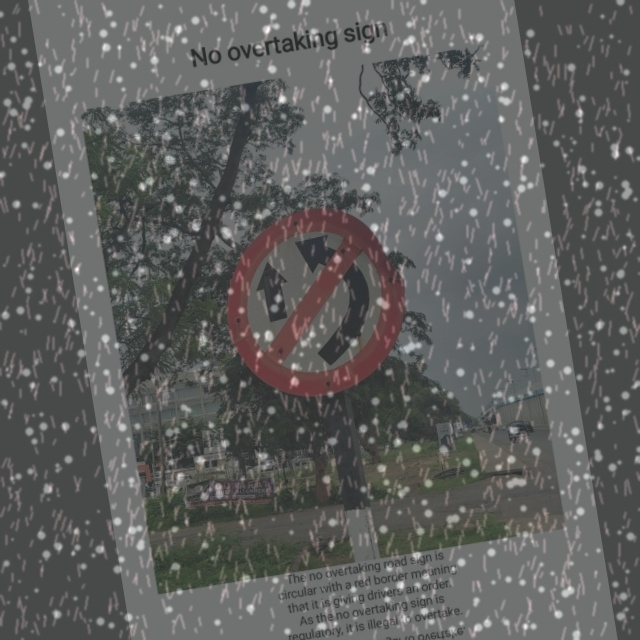Overtaking_Prohibited: (216, 194, 418, 409)
